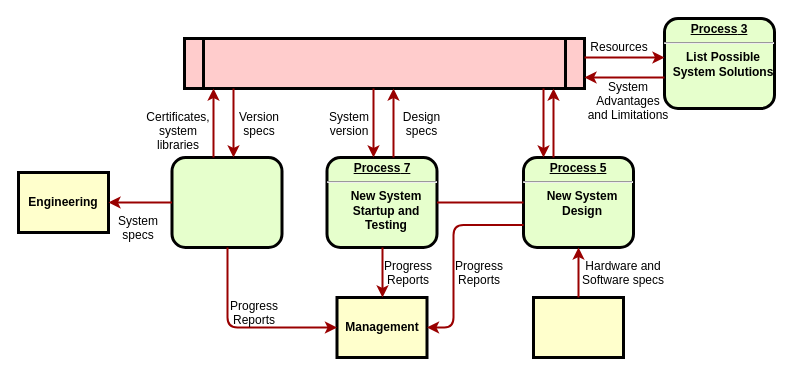
Image size: 793x376. Some labels were removed from this diagram. The shapes that lost their labels are listed below. From the top down, each one's box as (x1, y1, x2, y2) in pixels, then its label:
(182, 36, 586, 90): CI/CD Pipeline
(170, 156, 283, 248): Process 6 New System Construction
(532, 296, 624, 358): Vendors
